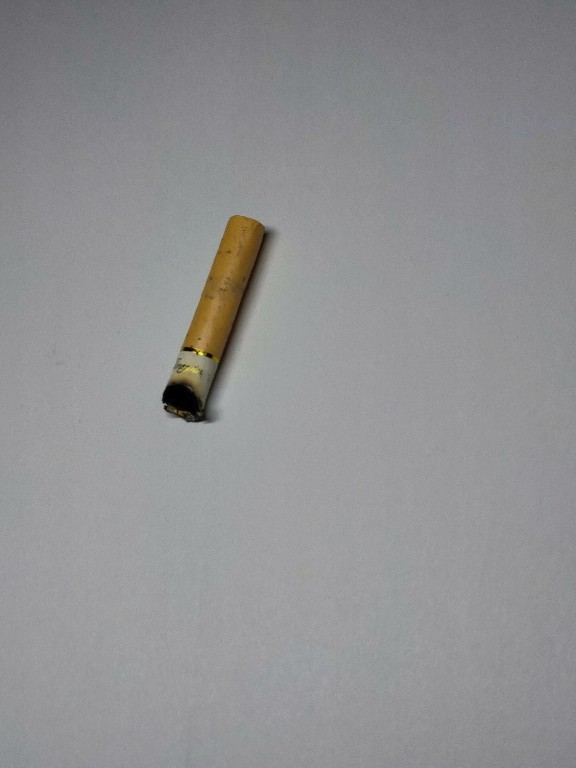cigarette: (156, 213, 268, 426)
